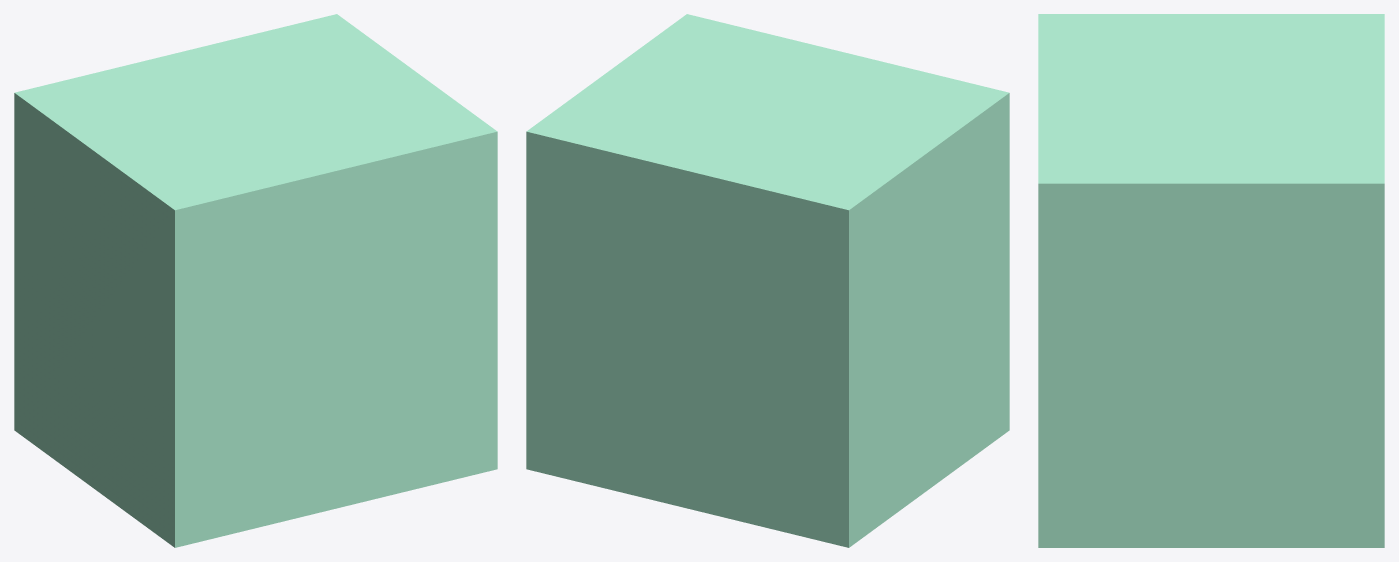
The model's file is OUTFITTING_INTERIOR__Isotherm Drawer 55 – Frost Free Freezer.glb.
3 renders of one model, left to right at view 1: azimuth 30°, elevation 25°; view 2: azimuth 150°, elevation 25°; view 3: azimuth 270°, elevation 25°, orthographic. The views are drawn at different scales.
Visible parts, largest first — view 1: Isotherm Drawer 55 – Frost Free Freezer; view 2: Isotherm Drawer 55 – Frost Free Freezer; view 3: Isotherm Drawer 55 – Frost Free Freezer.
Boxes of the visible parts, x1,y1,x2,y2 form: Isotherm Drawer 55 – Frost Free Freezer: (14, 14, 497, 547); Isotherm Drawer 55 – Frost Free Freezer: (526, 14, 1009, 547); Isotherm Drawer 55 – Frost Free Freezer: (1038, 14, 1384, 547).
Bounding box in the file's own units: 0.5334 × 0.5334 × 0.46.
